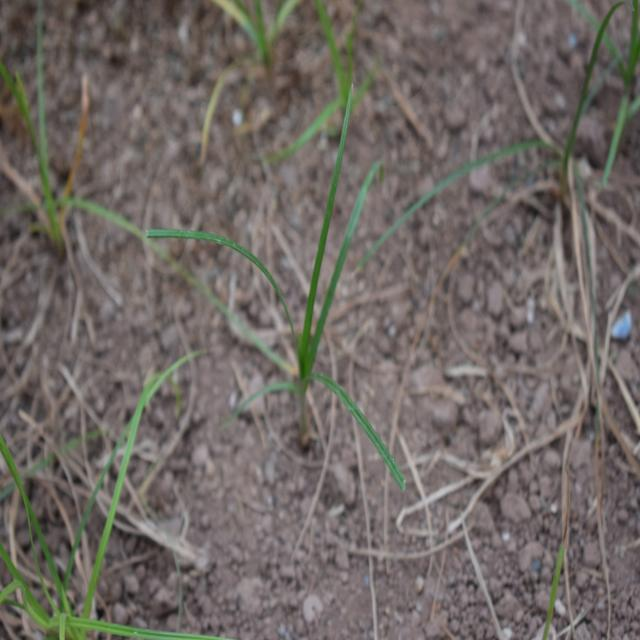sedge: (156, 98, 434, 502)
